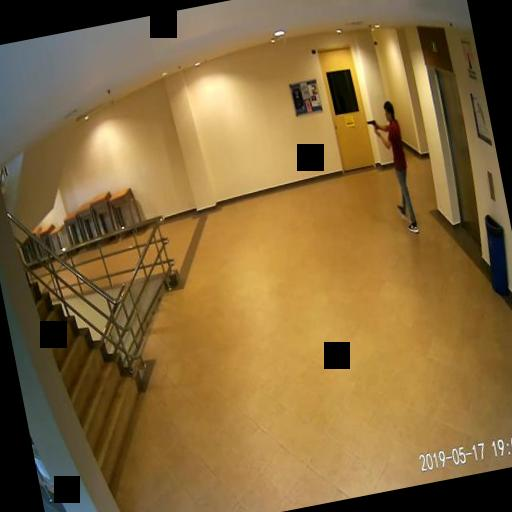Handgun: (365, 116, 377, 130)
